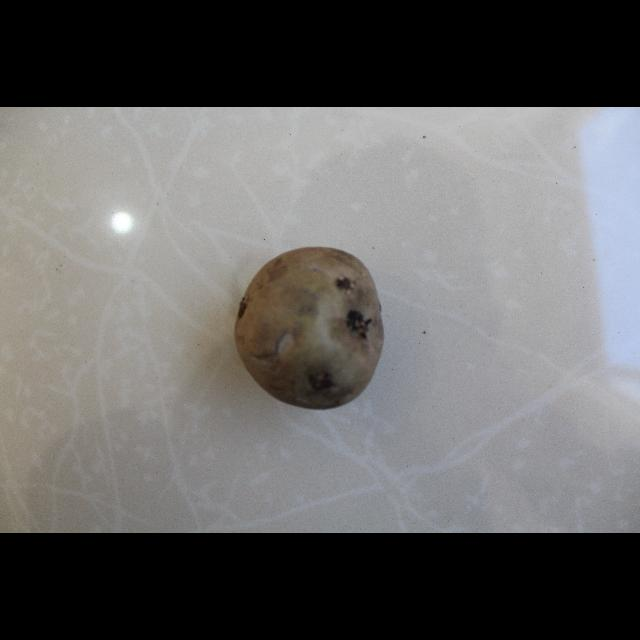Diseased-fungal potato: (234, 244, 386, 413)
